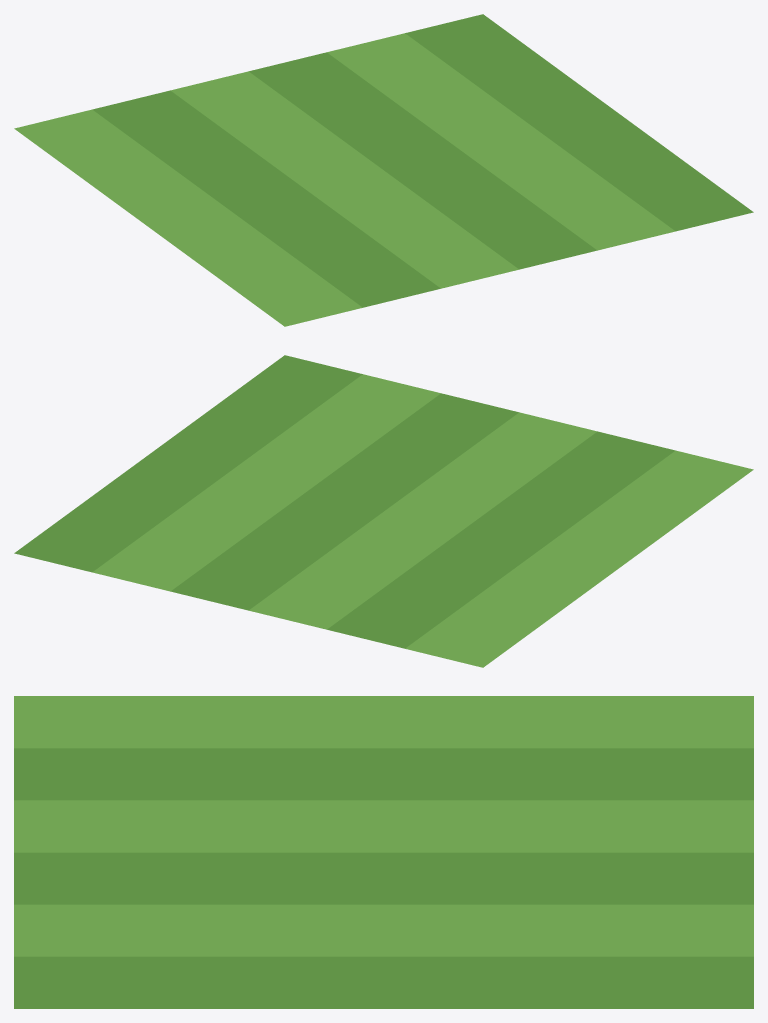
The model's file is gramado-listrado.glb.
The picture shows the model from 3 angles, top to bottom: view 1: azimuth 30°, elevation 25°; view 2: azimuth 150°, elevation 25°; view 3: azimuth 270°, elevation 25°; orthographic projection. The views are drawn at different scales.
Visible parts, largest first — view 1: FaixasClaras, FaixasEscuras; view 2: FaixasClaras, FaixasEscuras; view 3: FaixasClaras, FaixasEscuras.
Boxes of the visible parts, x1,y1,x2,y2 form: FaixasClaras: [14, 33, 675, 326]; FaixasEscuras: [92, 14, 753, 307]; FaixasClaras: [92, 374, 753, 667]; FaixasEscuras: [14, 355, 675, 648]; FaixasClaras: [14, 696, 753, 956]; FaixasEscuras: [14, 748, 753, 1008].
Size of the model in its own units: 12 by 0 by 12.
